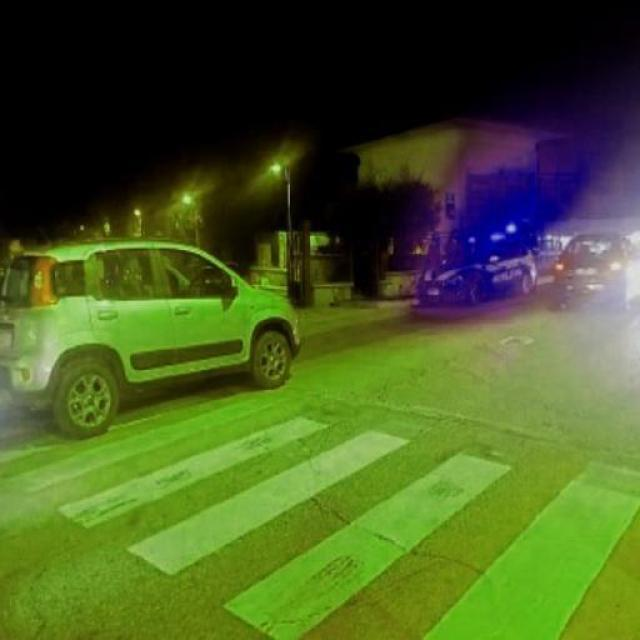crosswalk: (8, 387, 640, 640)
